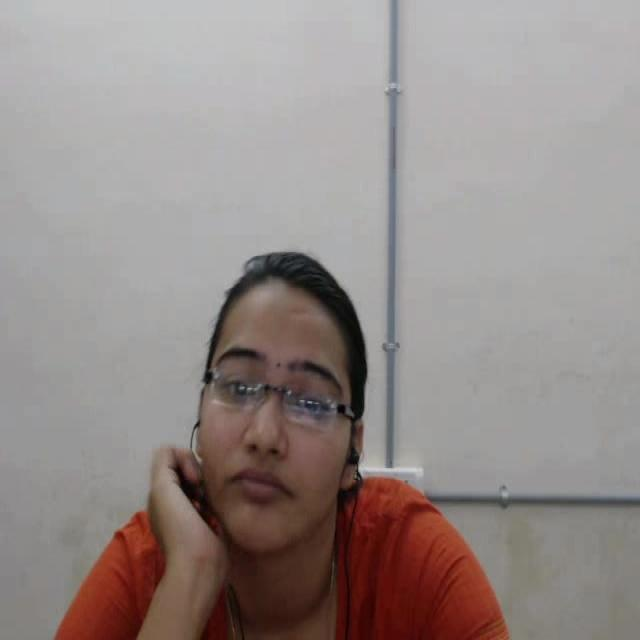Bored: (122, 213, 372, 616)
